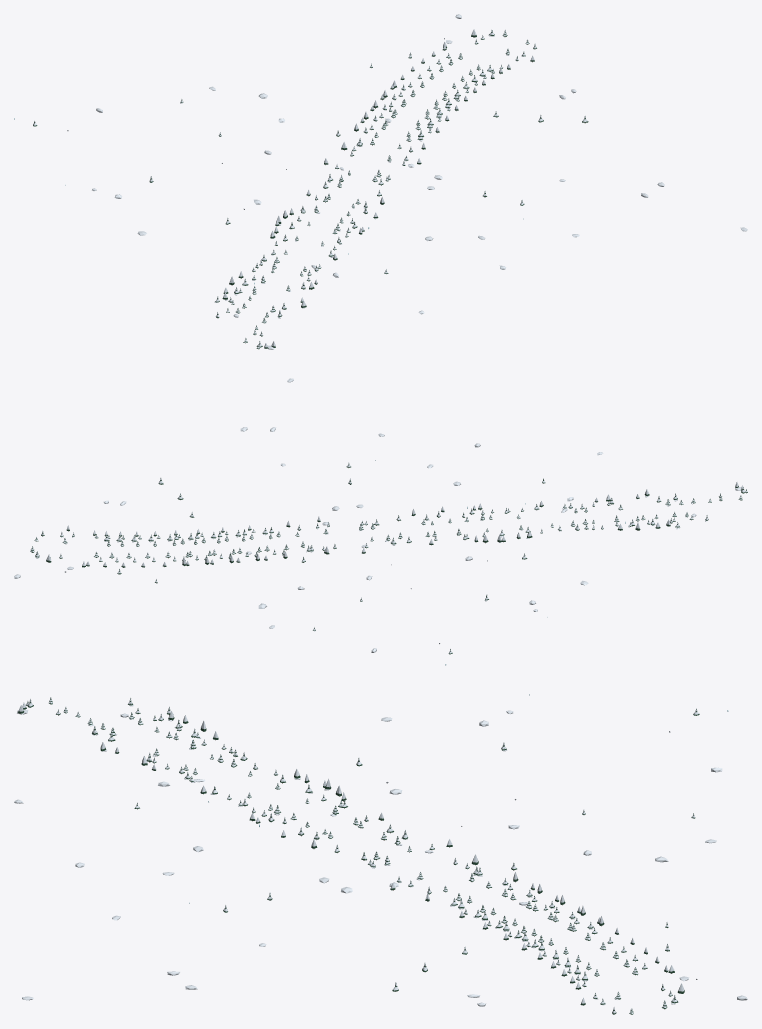
Rendered from Fill_-1_-1.fbx.
3 renders of one model, top to bottom at view 1: azimuth 30°, elevation 25°; view 2: azimuth 150°, elevation 25°; view 3: azimuth 270°, elevation 25°, orthographic. The views are drawn at different scales.
Visible parts, largest first — view 1: Fill_-1_-1; view 2: Fill_-1_-1; view 3: Fill_-1_-1.
Part boxes in pixels (x1,y1,x2,y2): Fill_-1_-1: [14, 14, 747, 349]; Fill_-1_-1: [14, 378, 747, 665]; Fill_-1_-1: [14, 694, 747, 1014].
Bounding box in the file's own units: 59140 × 2367 × 58216.
